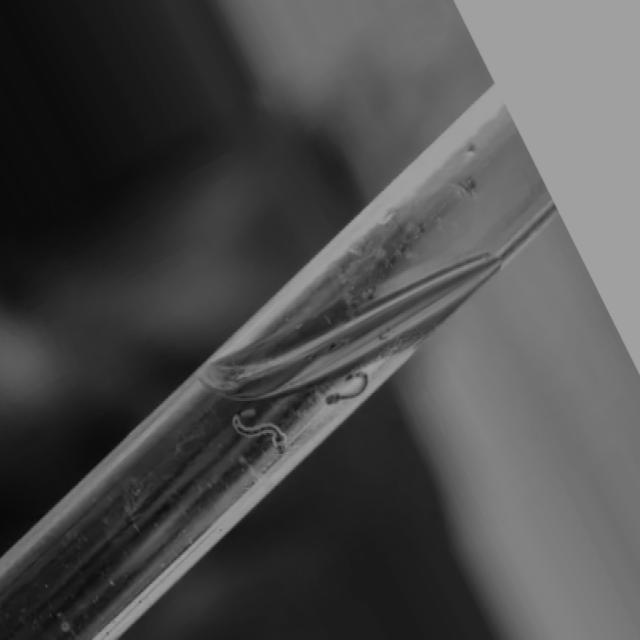larvas: (231, 418, 286, 452), (327, 372, 368, 408)
